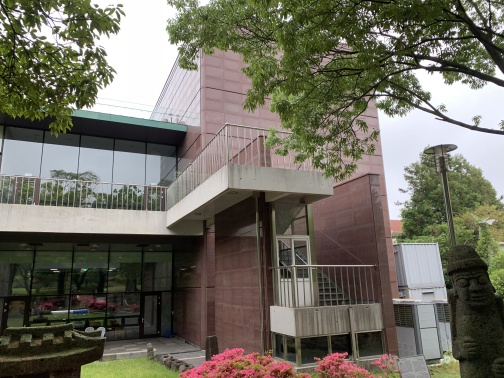Museum: (148, 26, 404, 371), (2, 98, 309, 367)
